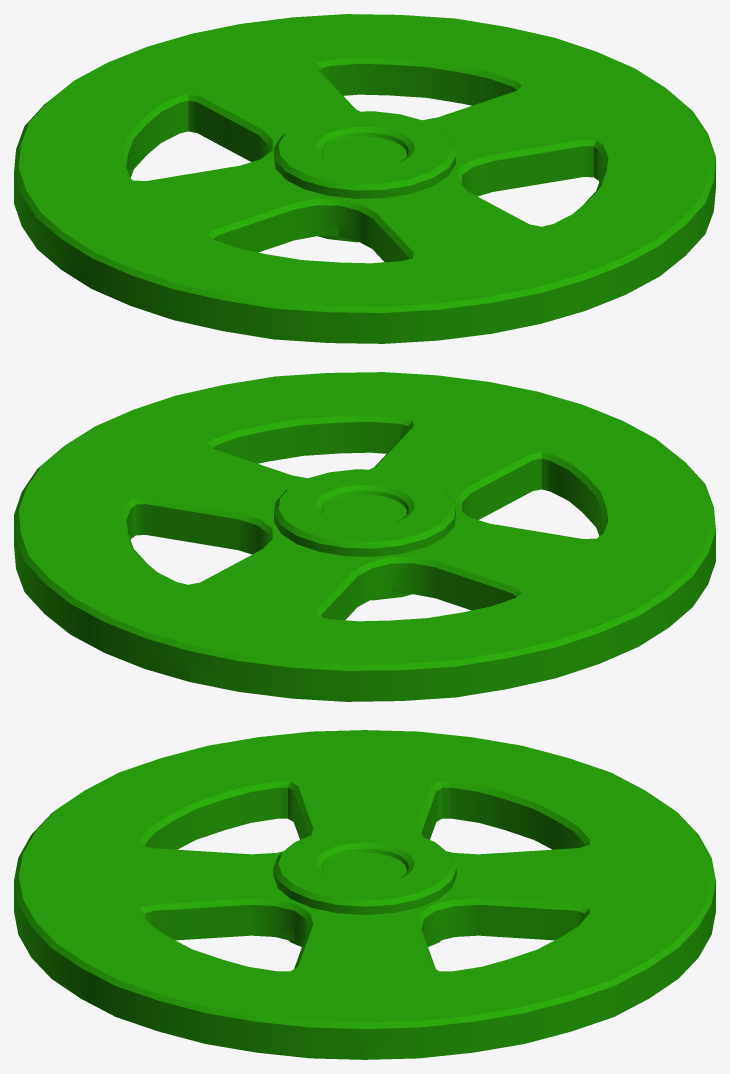
File: geo_gear_roue.fbx
3 renders of one model, top to bottom at view 1: azimuth 30°, elevation 25°; view 2: azimuth 150°, elevation 25°; view 3: azimuth 270°, elevation 25°, orthographic.
Visible parts, largest first — view 1: geo_gear_roue; view 2: geo_gear_roue; view 3: geo_gear_roue.
Boxes of the visible parts, <box> form: geo_gear_roue: <box>14,14,715,343</box>; geo_gear_roue: <box>14,372,715,701</box>; geo_gear_roue: <box>14,730,715,1059</box>.
Size of the model in its own units: 3.38 by 0.2981 by 3.38.
